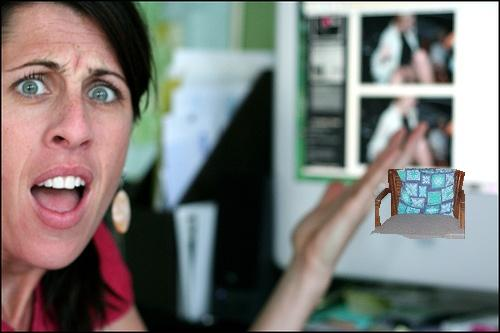tampered: (371, 169, 465, 239)
